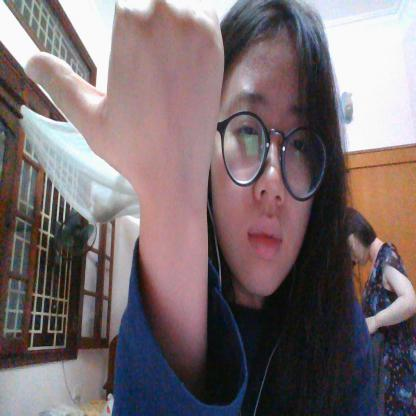right: (22, 1, 226, 199)
